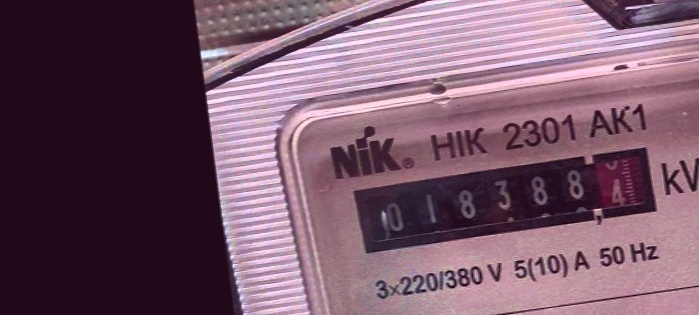0: (380, 199, 404, 237)
1: (417, 189, 440, 228)
3: (489, 178, 513, 215)
4: (603, 175, 627, 210)
8: (560, 166, 586, 205), (452, 185, 477, 224), (525, 174, 549, 211)
screen: (342, 137, 668, 267)
